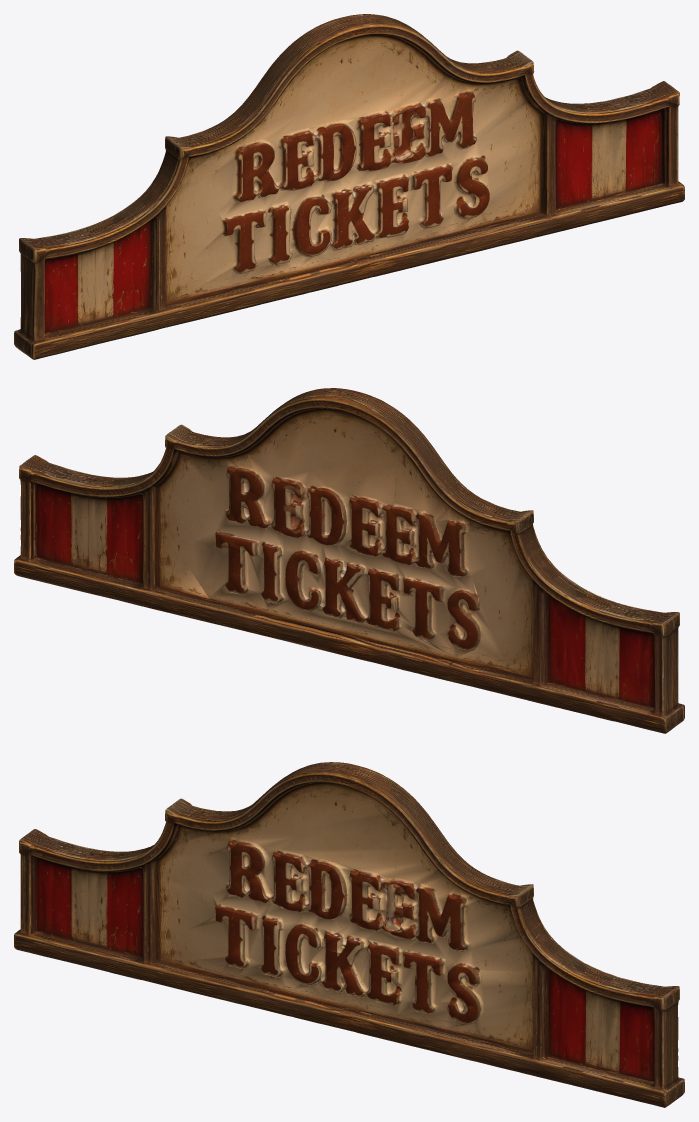
File: Meshy_AI_Redeem_Tickets_0512203345_texture.fbx
The picture shows the model from 3 angles, top to bottom: view 1: azimuth 30°, elevation 25°; view 2: azimuth 150°, elevation 25°; view 3: azimuth 330°, elevation 25°; orthographic projection.
Visible parts, largest first — view 1: Mesh_0; view 2: Mesh_0; view 3: Mesh_0.
Part boxes in pixels (x1,y1,x2,y2): Mesh_0: (14, 14, 684, 359); Mesh_0: (14, 388, 684, 733); Mesh_0: (14, 762, 684, 1107).
Bounding box in the file's own units: 191 × 71.15 × 9.97.
1 material, 1 textured.
